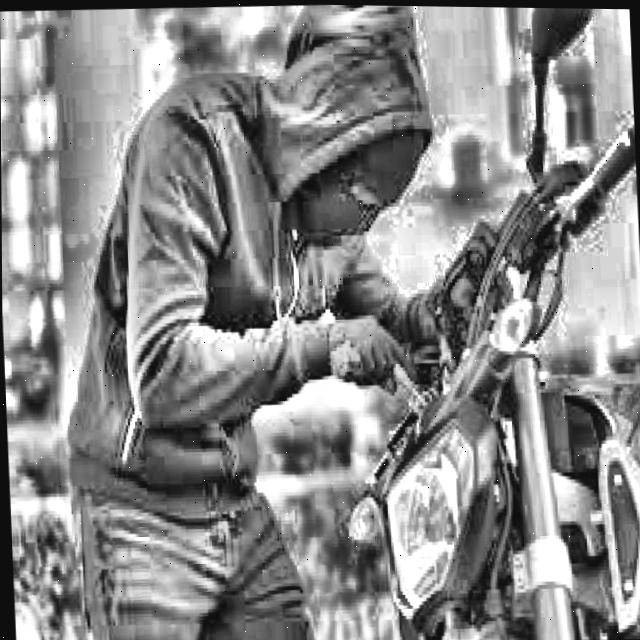robbery: (47, 5, 640, 640)
